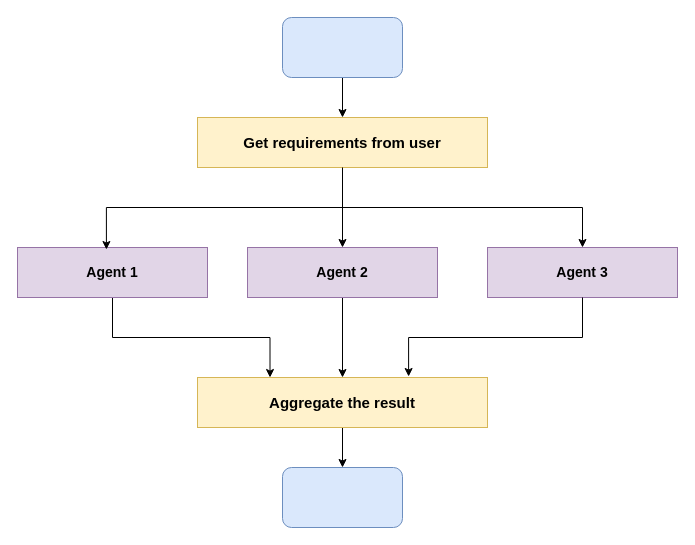
Image size: 695x545. Some labels were removed from this diagram. Here are the shapes that lost their labels. From the top down, the centre of each, then its label:
At (342,47): "START".
At (342,497): "STOP".
